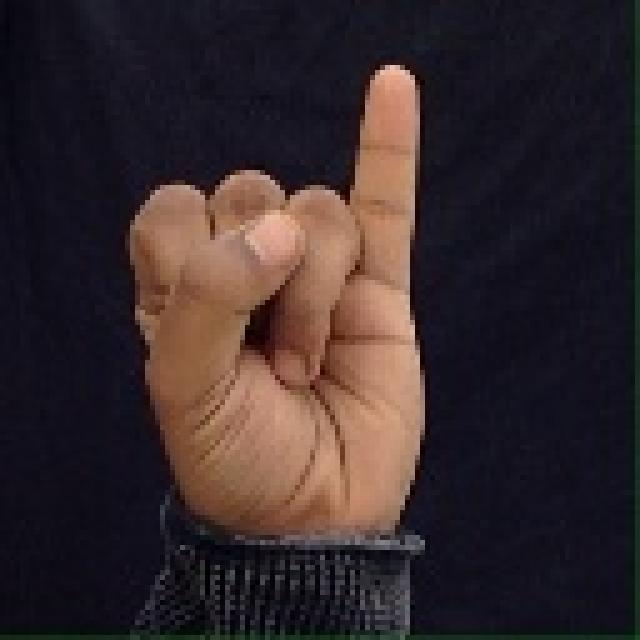Six: (73, 36, 500, 552)
